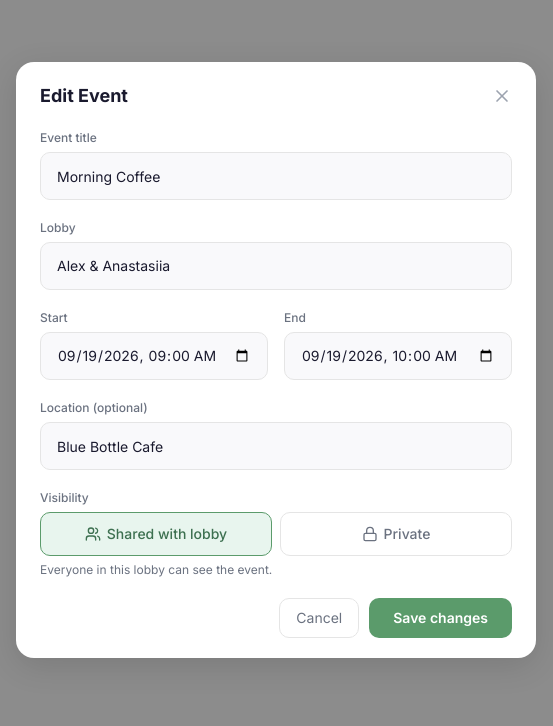
Scenario: CreateEventModal — visibility › shows the shared-to-private warning only on that transition
The width and height of the screenshot is (553, 726).
Expected: the text "removes it from other members' views" is not shown
Click the button "Private" at (396, 534), box [280,512,512,556]
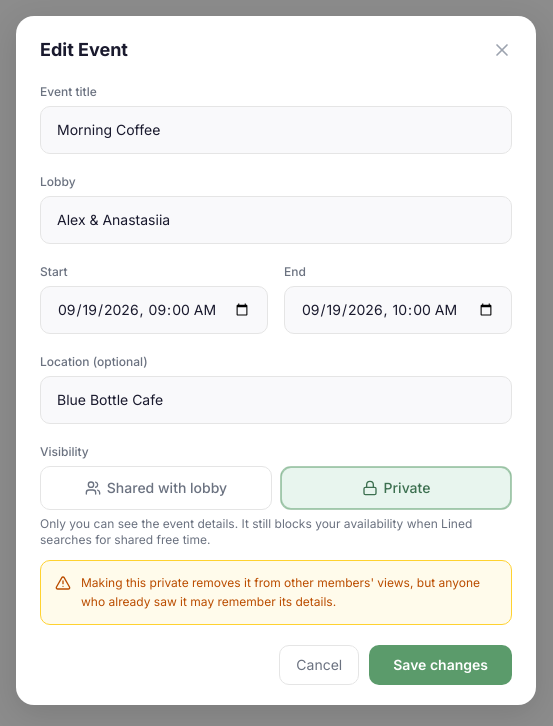
Result: the text "removes it from other members' views" is shown at [81,574,480,609]
Click the button "Shared with lobby" at (156, 488), box [40,466,272,510]
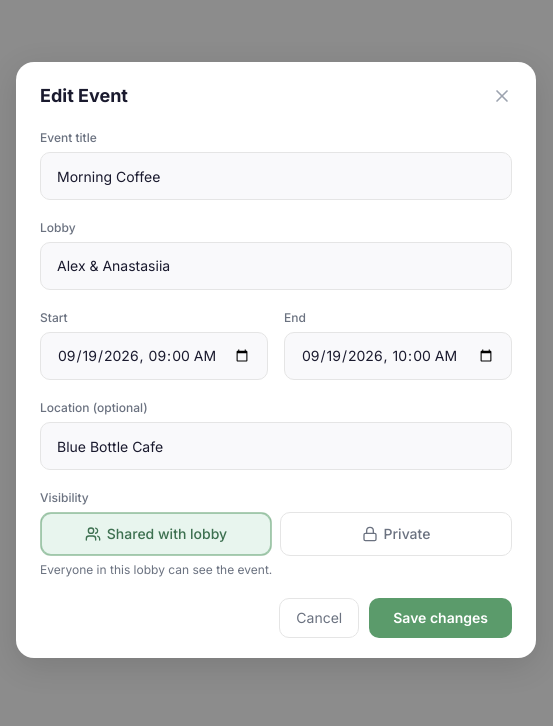
Result: the text "removes it from other members' views" is gone
